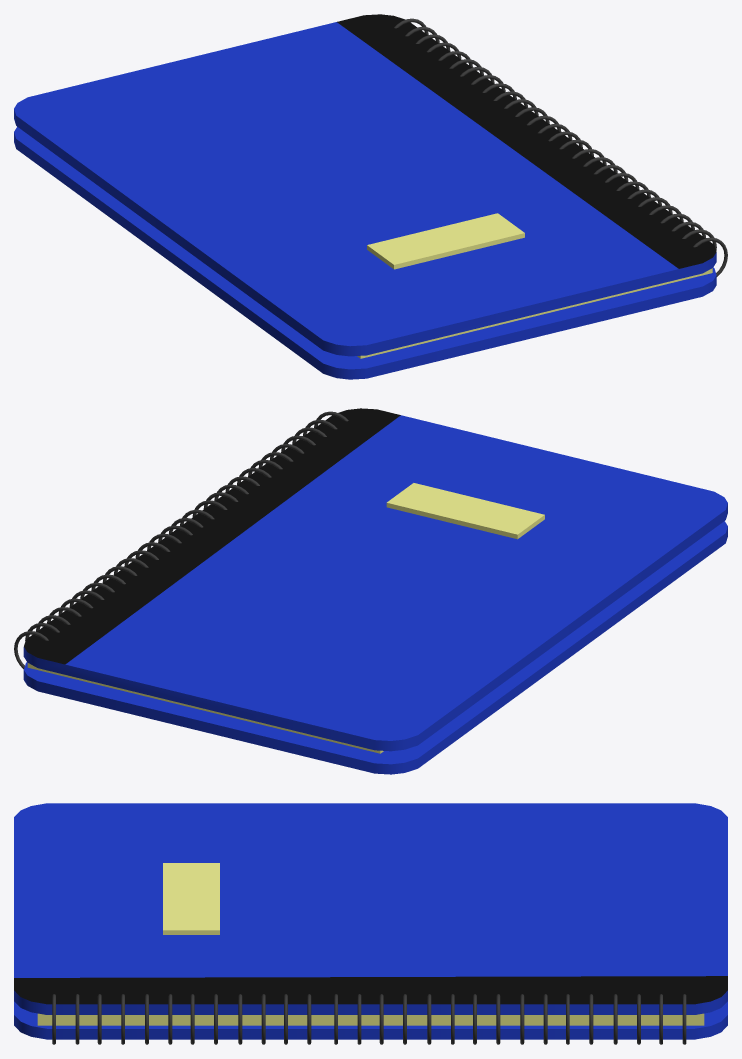
File: ReferenceMaterialBlue(Programming).FBX
3 renders of one model, top to bottom at view 1: azimuth 30°, elevation 25°; view 2: azimuth 150°, elevation 25°; view 3: azimuth 270°, elevation 25°, orthographic. The views are drawn at different scales.
Parts seen in each view (by area): view 1: ReferenceMaterial; view 2: ReferenceMaterial; view 3: ReferenceMaterial.
Part boxes in pixels (x1=…): ReferenceMaterial: x1=14, y1=14, x2=727, y2=379; ReferenceMaterial: x1=14, y1=408, x2=727, y2=774; ReferenceMaterial: x1=14, y1=803, x2=727, y2=1044.
Bounding box in the file's own units: 0.2085 × 0.0214 × 0.3.
